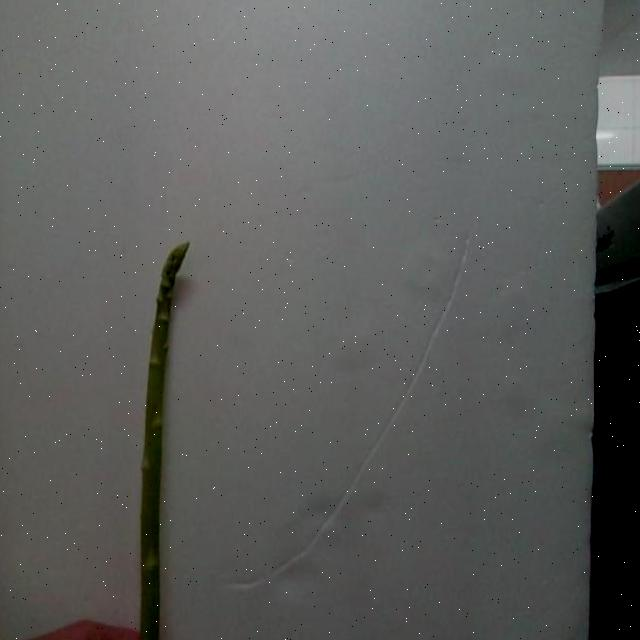aspargus: (139, 242, 190, 640)
